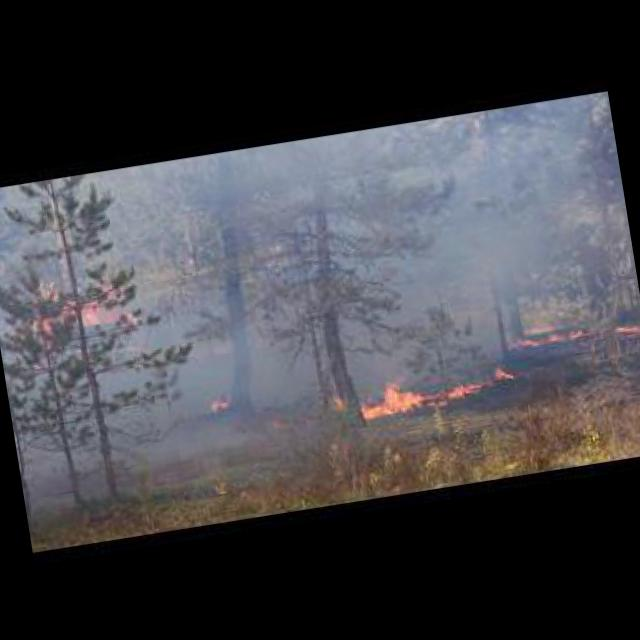fire: (338, 359, 522, 425), (22, 262, 152, 352), (509, 314, 640, 361)
smoke: (324, 91, 640, 360), (126, 136, 362, 414)
